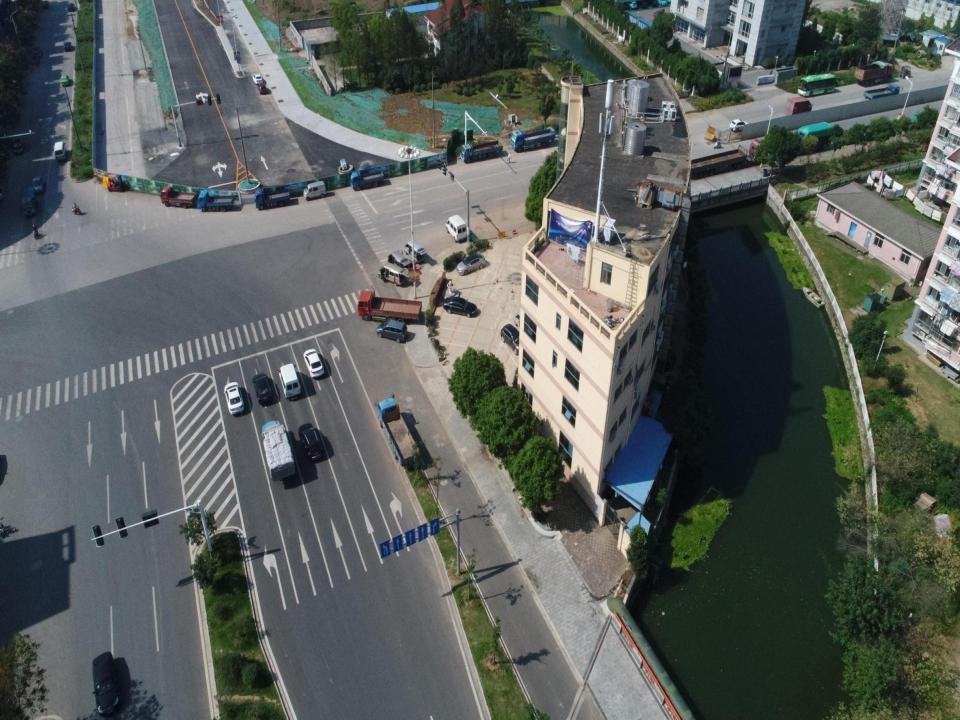bus: (796, 121, 836, 150), (798, 73, 836, 96)
car: (92, 652, 120, 715), (298, 423, 324, 460), (500, 324, 526, 355), (443, 296, 477, 318), (456, 252, 486, 276), (252, 373, 274, 404), (303, 348, 325, 378), (224, 382, 244, 415), (729, 118, 749, 132), (11, 136, 24, 155), (514, 312, 531, 326), (0, 138, 10, 159), (31, 176, 43, 192), (258, 82, 268, 96), (63, 40, 73, 52), (60, 73, 69, 86), (253, 73, 263, 84), (41, 0, 50, 9), (67, 2, 75, 12)
truck: (682, 138, 768, 180), (374, 392, 421, 468), (357, 289, 423, 325), (260, 420, 296, 481), (508, 128, 556, 153), (854, 60, 894, 87), (460, 140, 503, 164), (863, 83, 904, 105), (159, 186, 196, 208), (255, 187, 290, 210), (197, 190, 234, 211), (350, 170, 384, 190), (784, 96, 813, 117), (20, 185, 36, 216)
van: (277, 363, 302, 398), (377, 262, 409, 286), (377, 319, 407, 343), (387, 249, 413, 274), (446, 214, 468, 242), (404, 239, 426, 264), (303, 180, 327, 201), (54, 141, 66, 162)
